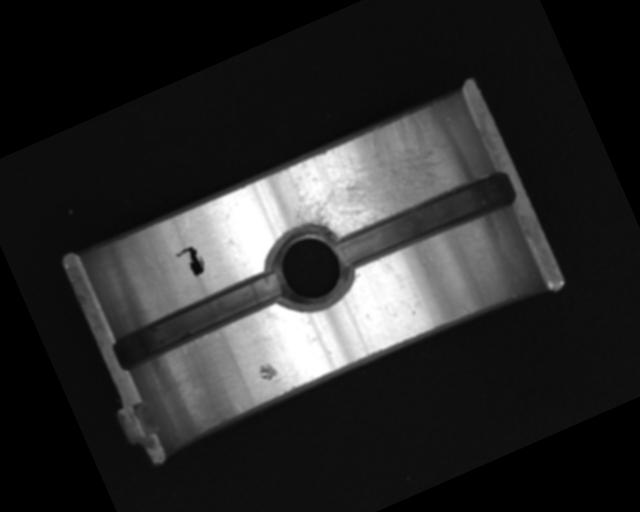blot: (173, 242, 209, 281)
bruise: (256, 359, 280, 383)
gap: (331, 164, 520, 278), (110, 267, 288, 371)
hole: (257, 214, 361, 321)
scratch: (272, 99, 475, 252)
